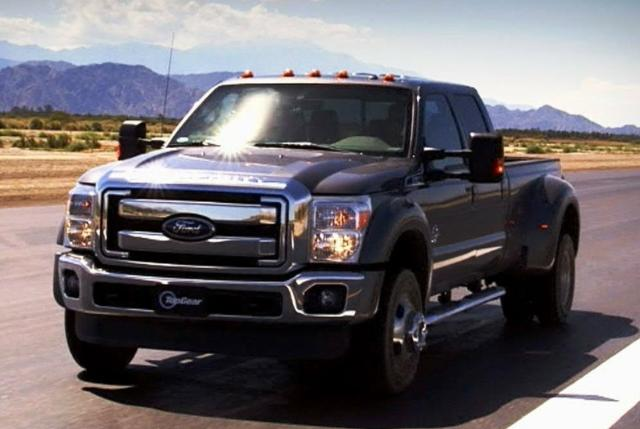pickup-truck: (57, 70, 582, 397)
